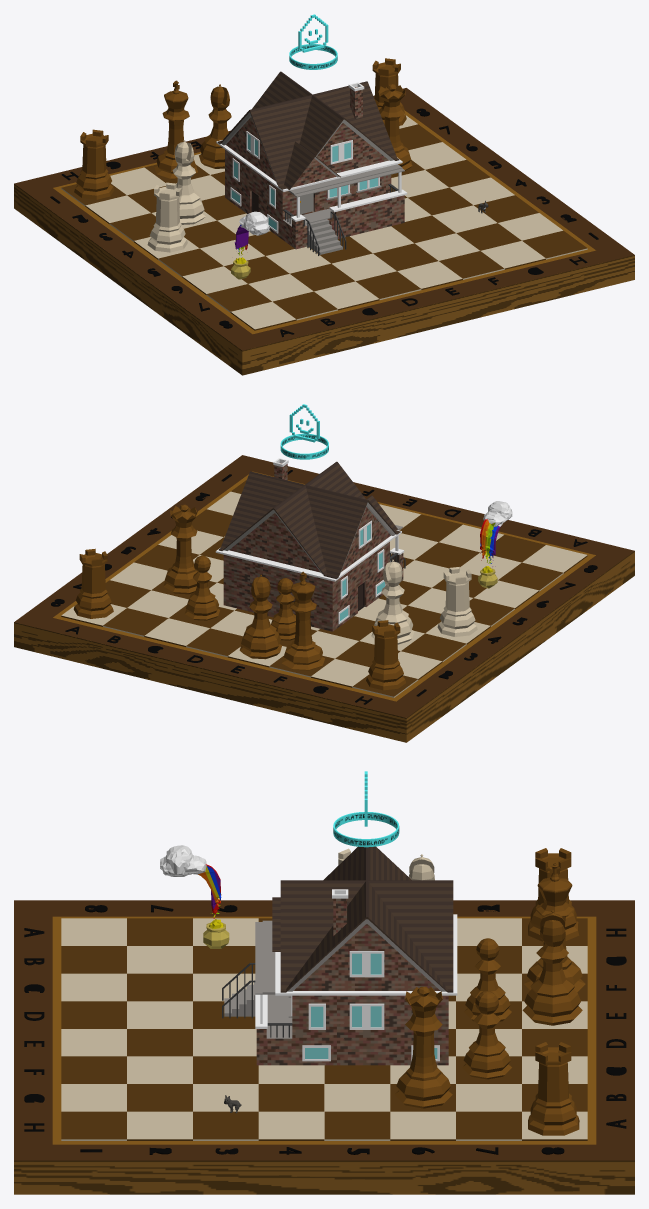
3 renders of one model, top to bottom at view 1: azimuth 30°, elevation 25°; view 2: azimuth 150°, elevation 25°; view 3: azimuth 270°, elevation 25°, orthographic. The views are drawn at different scales.
Visible parts, largest first — view 1: Cube.002, Cube.117, OBJRANDOM_RAINBOW, TYPE_PREMIUM; view 2: Cube.002, Cube.117, OBJRANDOM_RAINBOW, TYPE_PREMIUM; view 3: Cube.002, Cube.117, OBJRANDOM_RAINBOW, TYPE_PREMIUM.
Boxes of the visible parts, bbox=[...] form: Cube.002: bbox=[14, 58, 634, 375]; Cube.117: bbox=[216, 71, 407, 255]; OBJRANDOM_RAINBOW: bbox=[231, 211, 269, 279]; TYPE_PREMIUM: bbox=[289, 14, 337, 69]; Cube.002: bbox=[14, 455, 634, 742]; Cube.117: bbox=[215, 458, 405, 631]; OBJRANDOM_RAINBOW: bbox=[478, 501, 512, 588]; TYPE_PREMIUM: bbox=[280, 404, 328, 459]; Cube.002: bbox=[14, 848, 634, 1194]; Cube.117: bbox=[222, 846, 457, 1065]; OBJRANDOM_RAINBOW: bbox=[160, 845, 229, 948]; TYPE_PREMIUM: bbox=[333, 771, 399, 847].
Bounding box in the file's own units: 3981 × 2279 × 4012.
33 materials, 4 textured.
